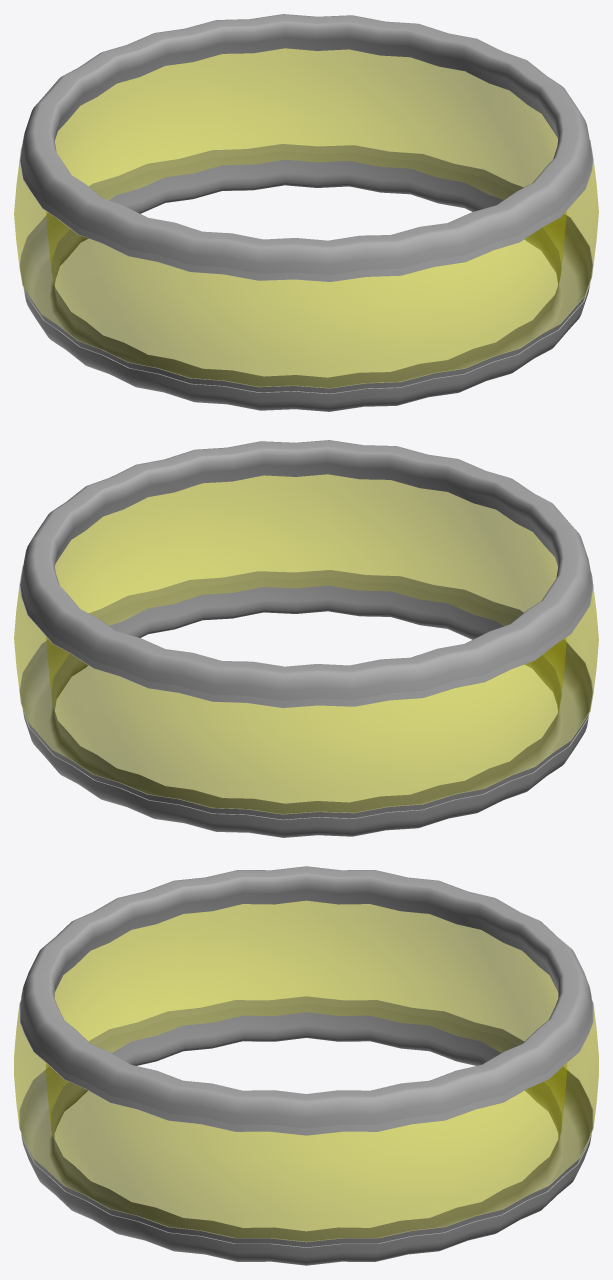
Rendered from Ring.fbx.
3 views of the same model, one above another, from view 1: azimuth 30°, elevation 25°; view 2: azimuth 150°, elevation 25°; view 3: azimuth 270°, elevation 25° (orthographic).
Visible parts, largest first — view 1: Ring; view 2: Ring; view 3: Ring.
Boxes of the visible parts, x1=… form: Ring: x1=14, y1=14, x2=598, y2=411; Ring: x1=14, y1=440, x2=598, y2=837; Ring: x1=14, y1=866, x2=598, y2=1265.
Bounding box in the file's own units: 5.03 × 1.59 × 5.02.
